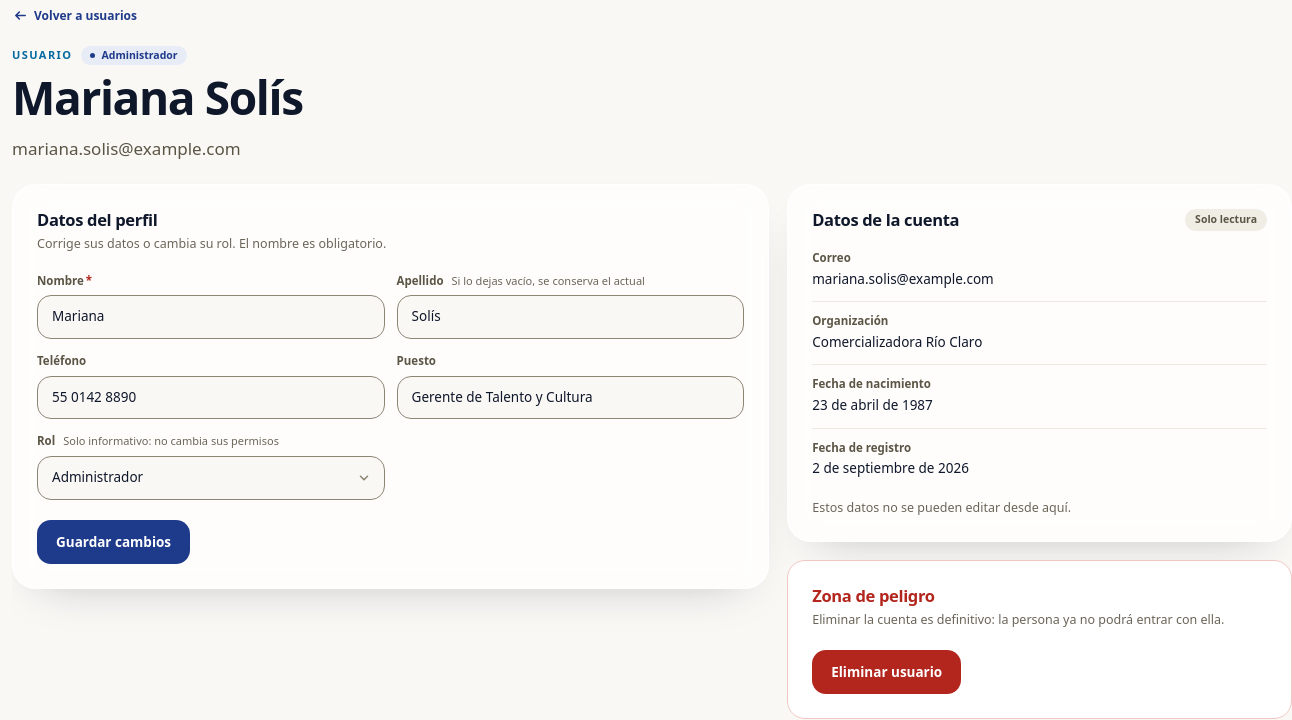
AdminUsuarioDetallePage (/admin/usuarios/:id) › guardar (PATCH) › envía exactamente name, last_name, phone, position y role, y confirma con un toast
The image size is (1292, 720).
Expected: the heading "Mariana Solís" is shown, 12,66 -> 303,128
Replace the text in the field labelled "Puesto" with "Directora de Talento". click: (570, 398)
box: 398,377 -> 743,418
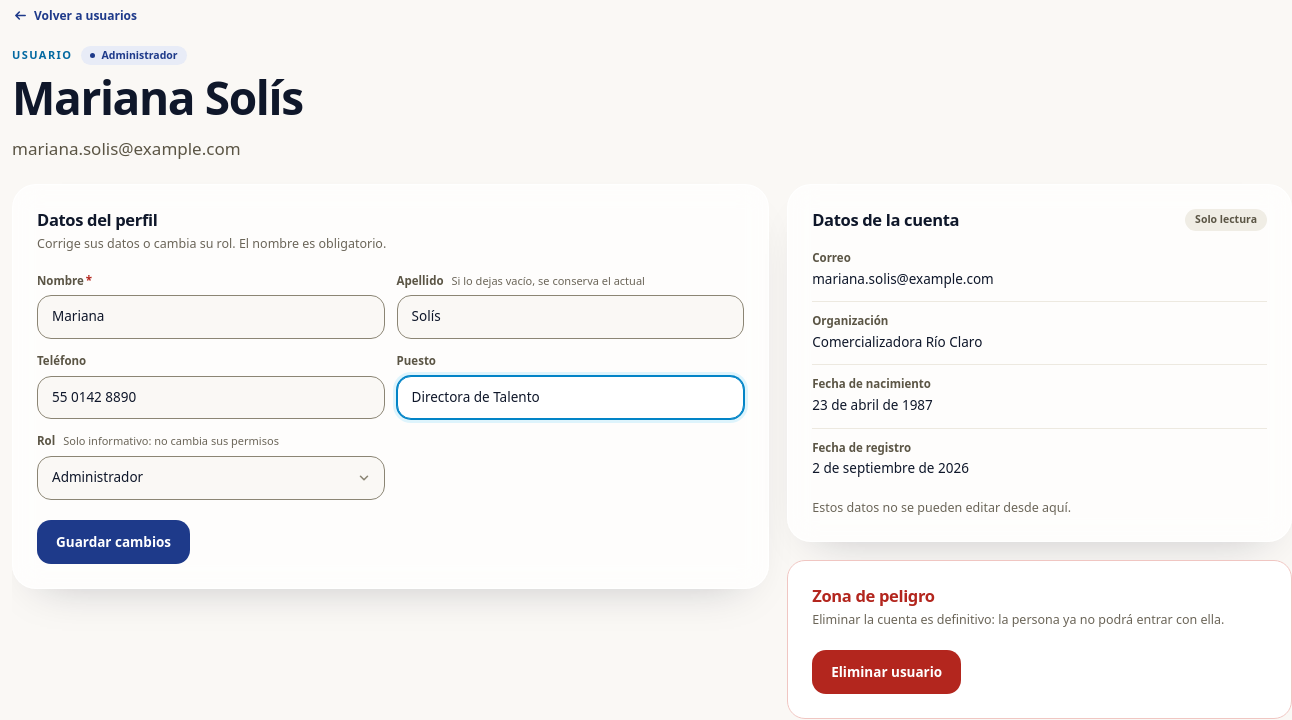
Select "Visualizador" in the dropdown labelled "Rol". click: (211, 478)
box: 37,456 -> 385,500
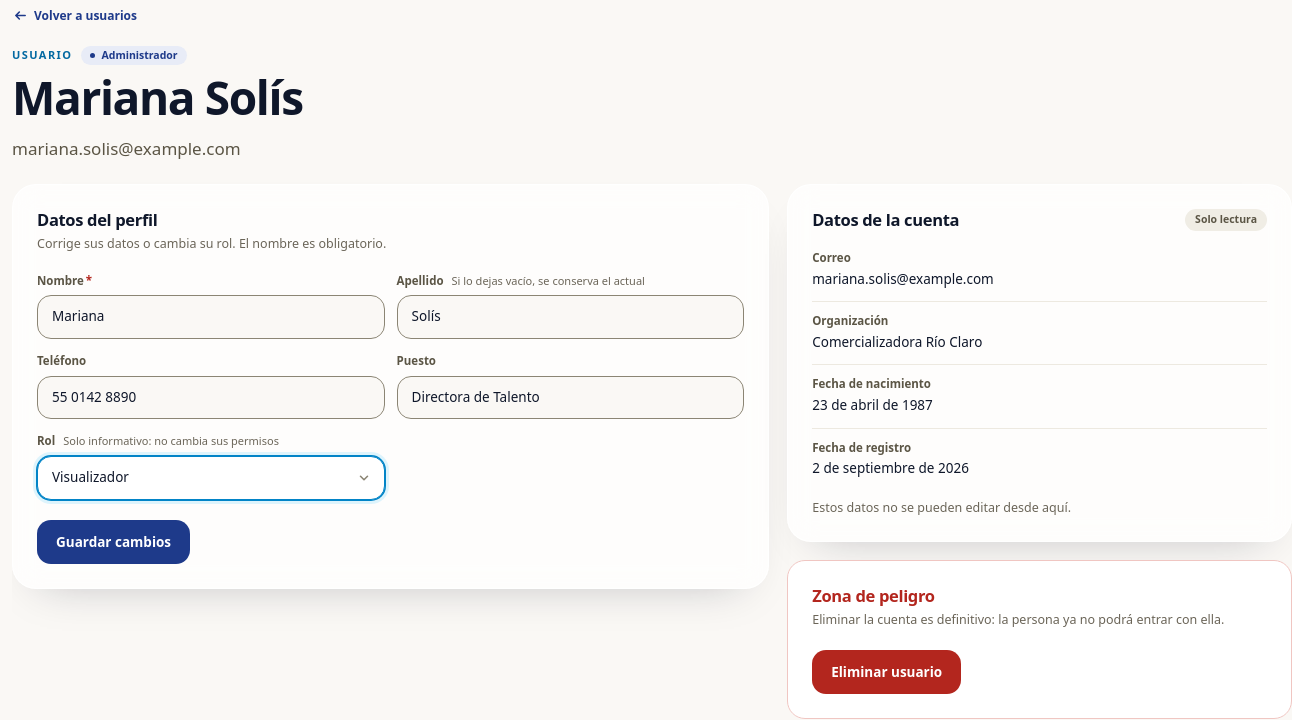
Click the button "Guardar cambios". click: (114, 542)
box: 37,520 -> 190,564
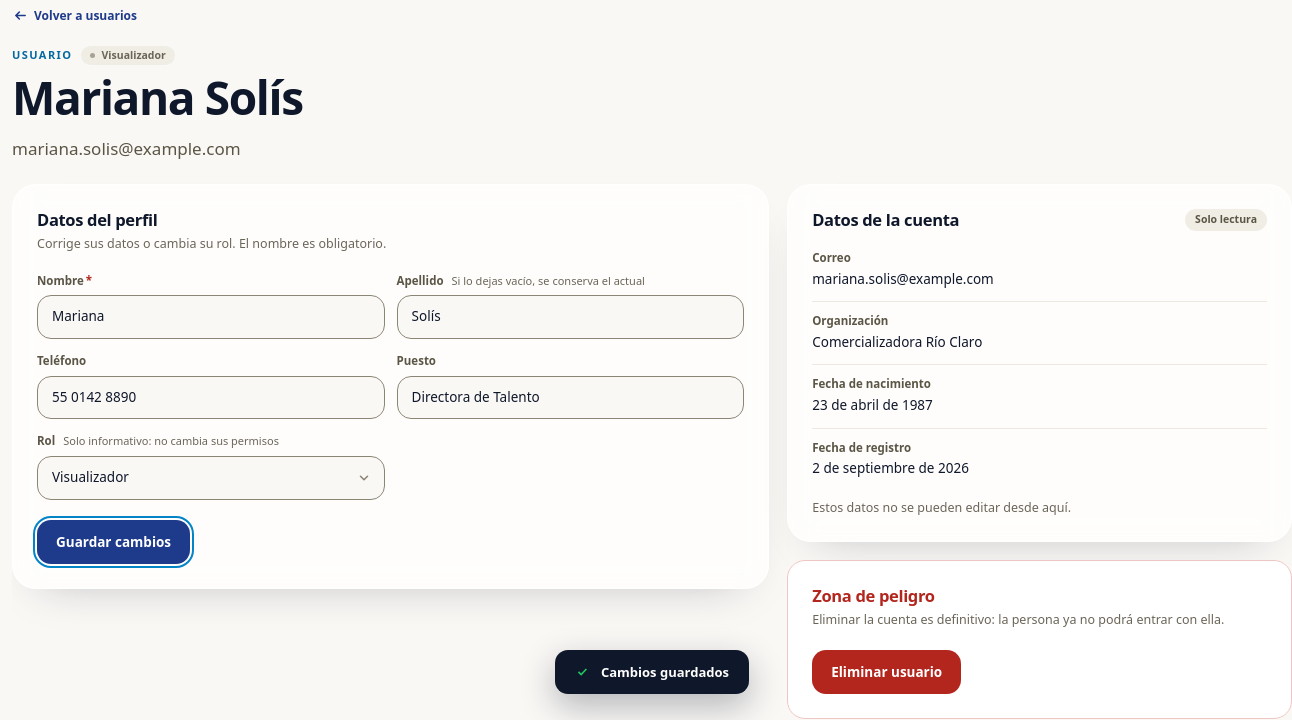
Expected: the text "Cambios guardados" is shown, 601,663 -> 729,681
Expected: the text "Visualizador" is shown, 82,46 -> 175,65
